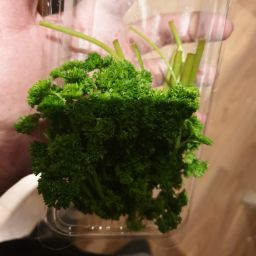Parsley: (13, 43, 207, 187), (24, 13, 221, 152), (16, 131, 227, 238)
